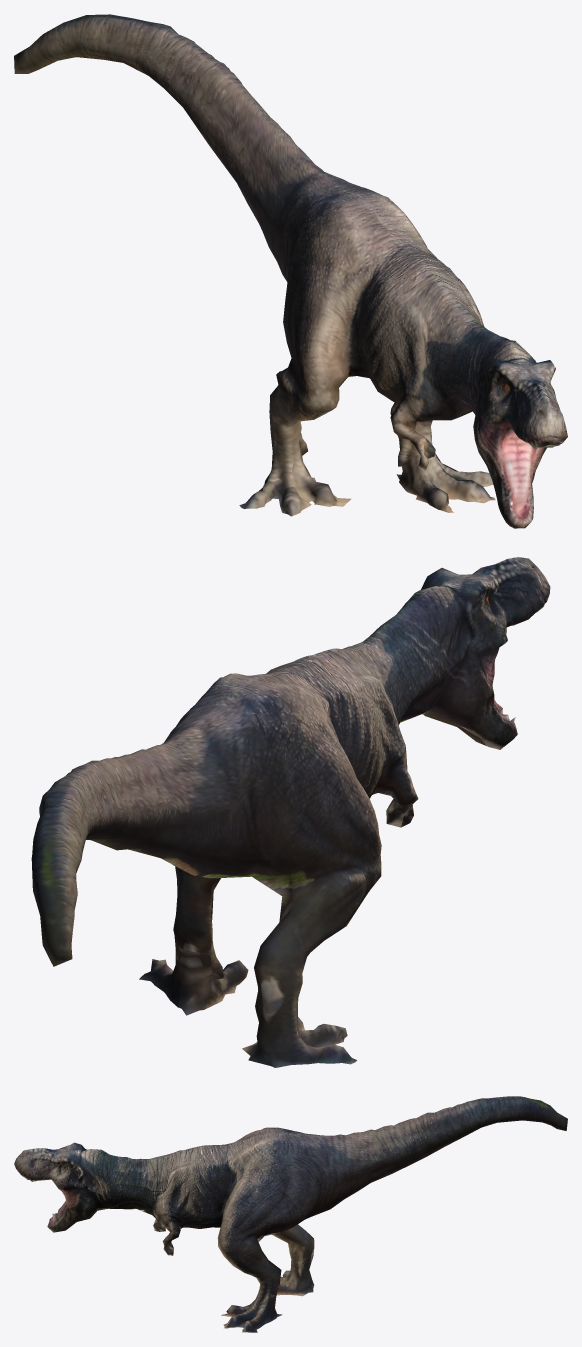
The model's file is dinosaur-trex.glb.
3 views of the same model, one above another, from view 1: azimuth 30°, elevation 25°; view 2: azimuth 150°, elevation 25°; view 3: azimuth 270°, elevation 25° (orthographic). The views are drawn at different scales.
Parts seen in each view (by area): view 1: baked_mesh; view 2: baked_mesh; view 3: baked_mesh.
Part boxes in pixels (box(x1,y1,x2,y2)): baked_mesh: box(14, 14, 567, 528); baked_mesh: box(31, 557, 550, 1067); baked_mesh: box(14, 1096, 567, 1332).
Bounding box in the file's own units: 0.2145 × 0.3236 × 0.8272.
1 material, 1 textured.
